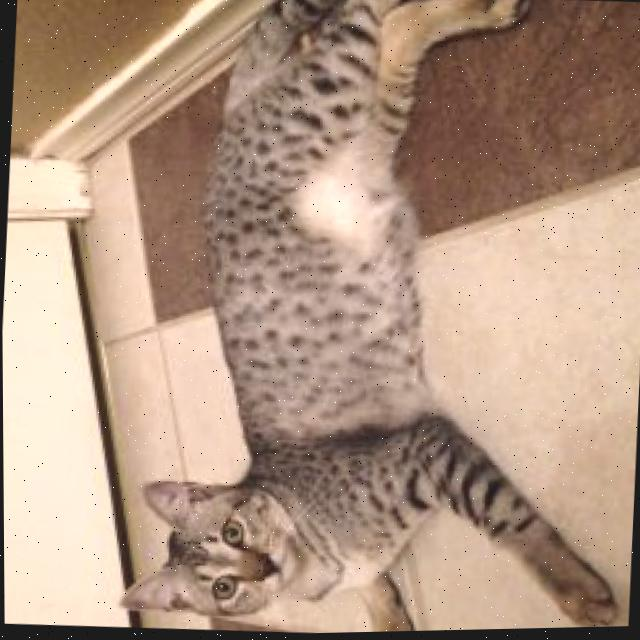Egyptian Mau: (107, 0, 640, 638)
